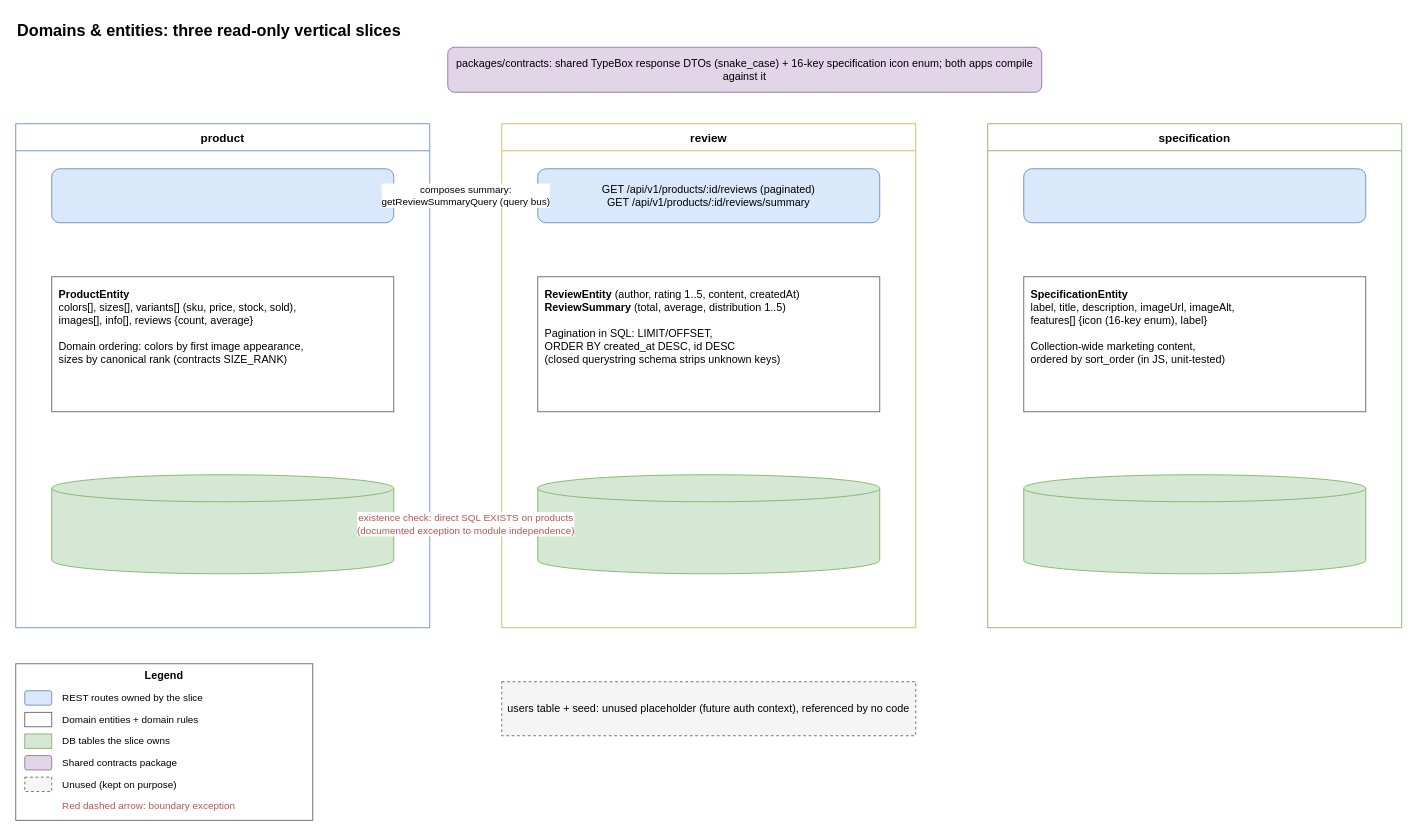
Some shapes in this 1418 by 836 pixel diagram are drawn without their labels. Here are the shapes that lost their labels. From the top down, the centre of each, then its label:
the point at 222,195: GET /api/v1/products/:id
the point at 1194,195: GET /api/v1/specifications
the point at 222,524: products, product_inventory, product_images, product_info
the point at 708,524: product_reviews, review_authors
the point at 1194,524: specifications, specification_features
